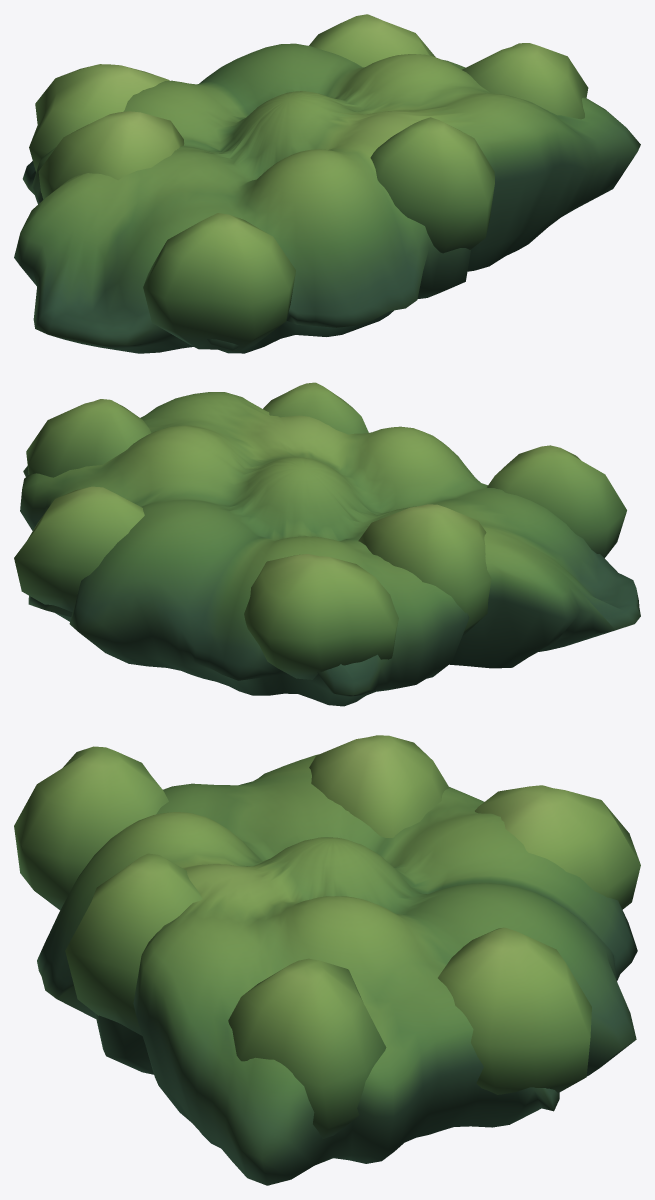
File: ForestIsland_A.fbx
3 renders of one model, top to bottom at view 1: azimuth 30°, elevation 25°; view 2: azimuth 150°, elevation 25°; view 3: azimuth 270°, elevation 25°, orthographic. The views are drawn at different scales.
Parts seen in each view (by area): view 1: ForestIsland_A; view 2: ForestIsland_A; view 3: ForestIsland_A.
Boxes of the visible parts, <box> form: ForestIsland_A: <box>14,14,640,353</box>; ForestIsland_A: <box>14,382,640,706</box>; ForestIsland_A: <box>14,735,640,1185</box>.
Size of the model in its own units: 2769 by 718 by 1966.
Materials: 1 (1 with a texture image).
